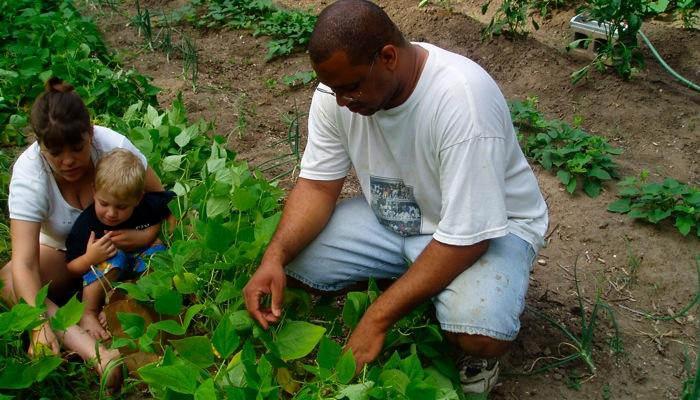person: (238, 3, 551, 396)
